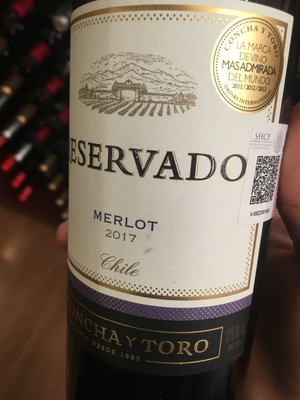reservado merlot: (46, 4, 281, 400)
